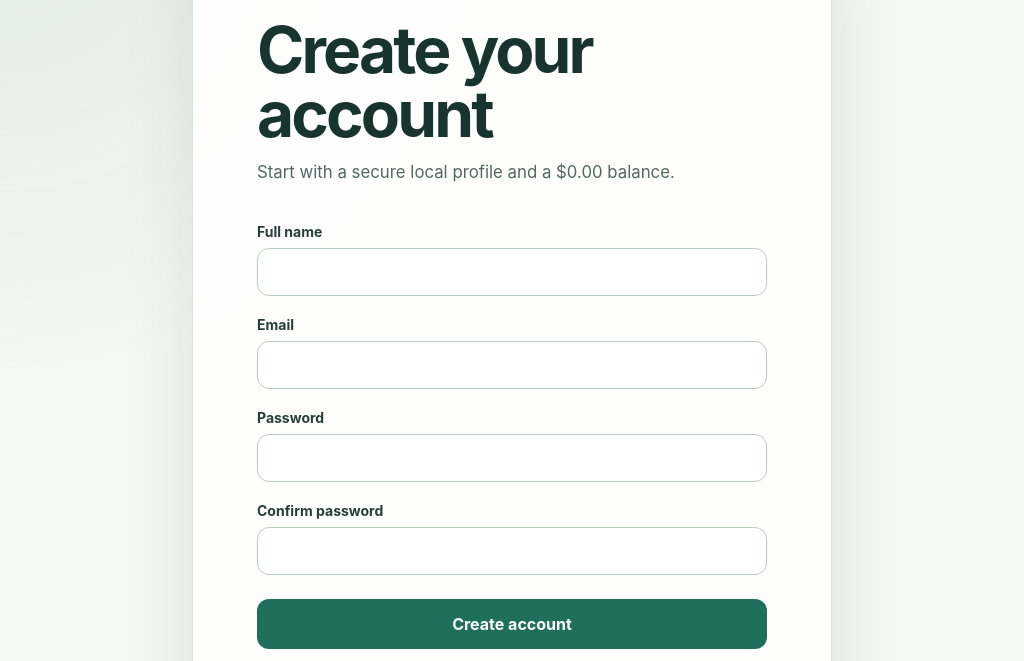
it: RegisterPage › recovers when secure password processing is unavailable
The width and height of the screenshot is (1024, 661).
Type "Ada Caracol" into the field labelled "Full name".
click(512, 272); type("Ada Caracol")  # box [257,248,767,296]
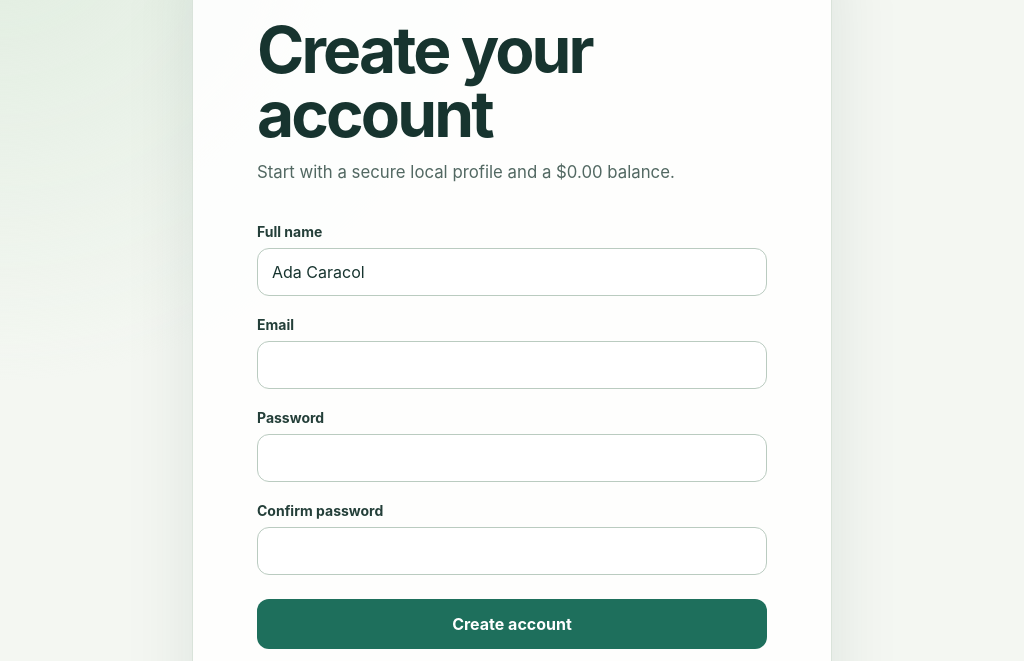
Type "ada@example.com" into the field labelled "Email".
click(512, 364); type("ada@example.com")  # box [257,340,767,388]
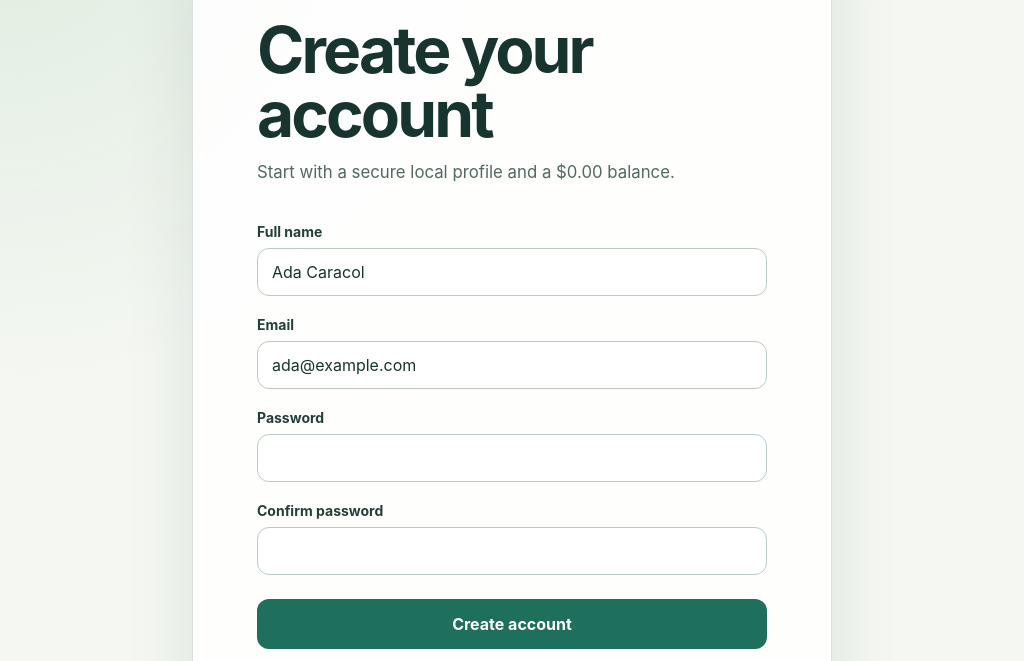
Type "Caracol123" into the password field labelled "Password".
click(512, 458); type("Caracol123")  # box [257,434,767,482]
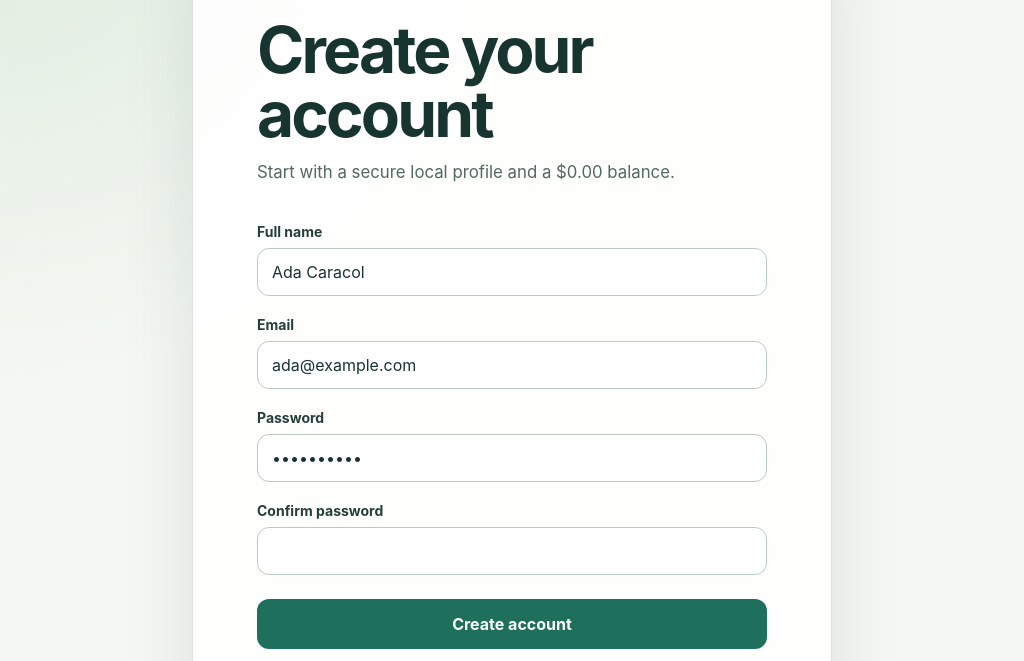
Type "Caracol123" into the password field labelled "Confirm password".
click(512, 550); type("Caracol123")  # box [257,526,767,574]
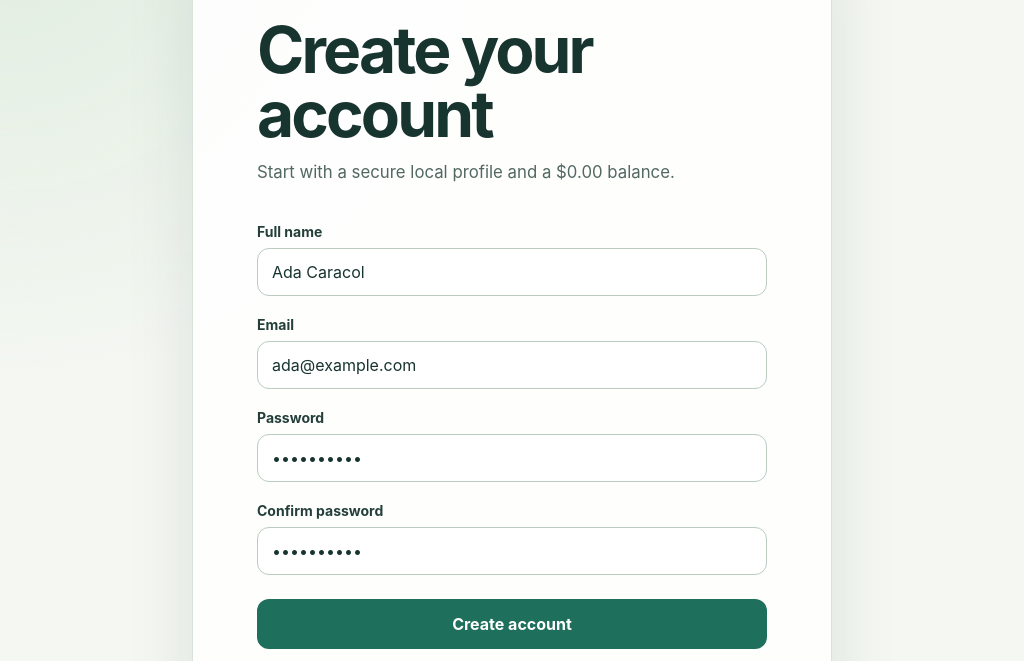
Click the button "Create account".
click(512, 624)  # box [257,598,767,648]
(page scrolled)
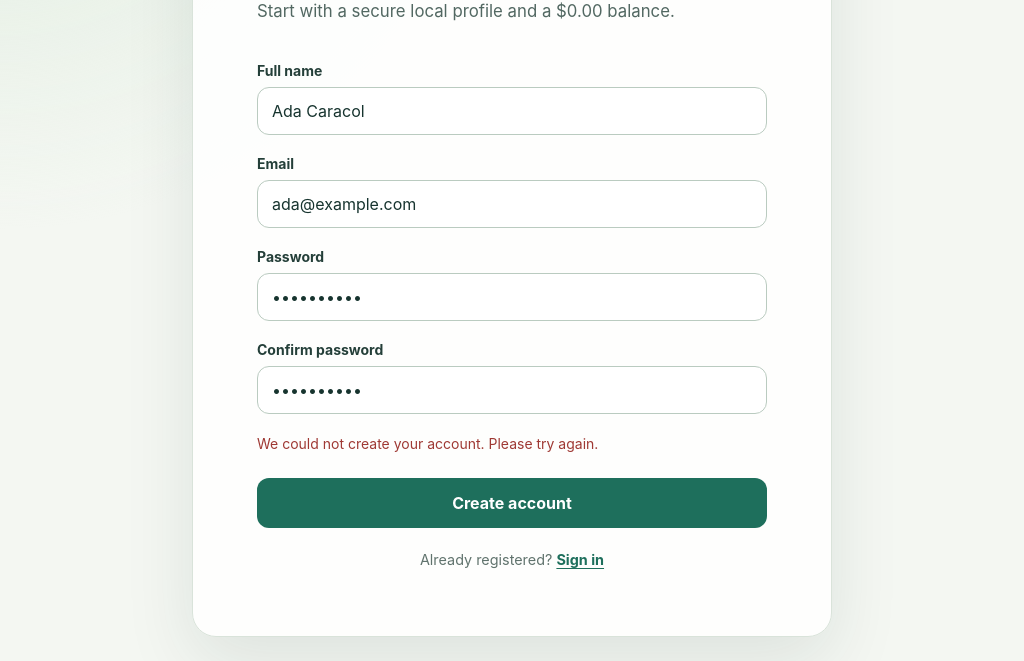
Expected: the button "Create account" is enabled, [257,478,767,528]
Expected: the text "We could not create your account. Please try again." is shown, [257,434,598,452]
